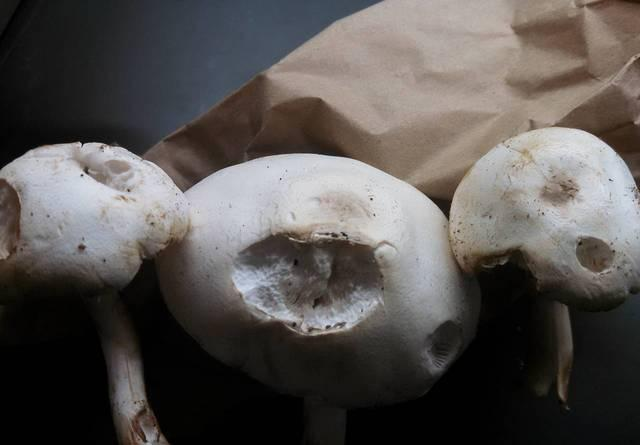Non-edible Mushroom: (154, 150, 481, 443), (0, 139, 190, 443), (447, 124, 638, 410)
